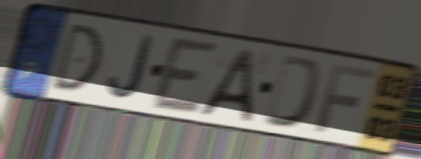A: (196, 46, 257, 125)
D: (259, 51, 327, 132), (49, 21, 104, 94)
E: (149, 34, 222, 118)
F: (312, 62, 379, 136)
J: (106, 33, 157, 102)
